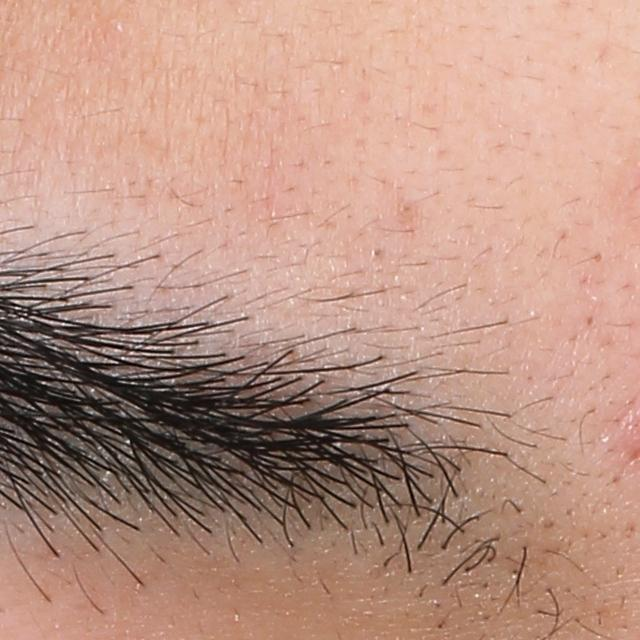comedo: (401, 200, 417, 217), (371, 245, 384, 257)
